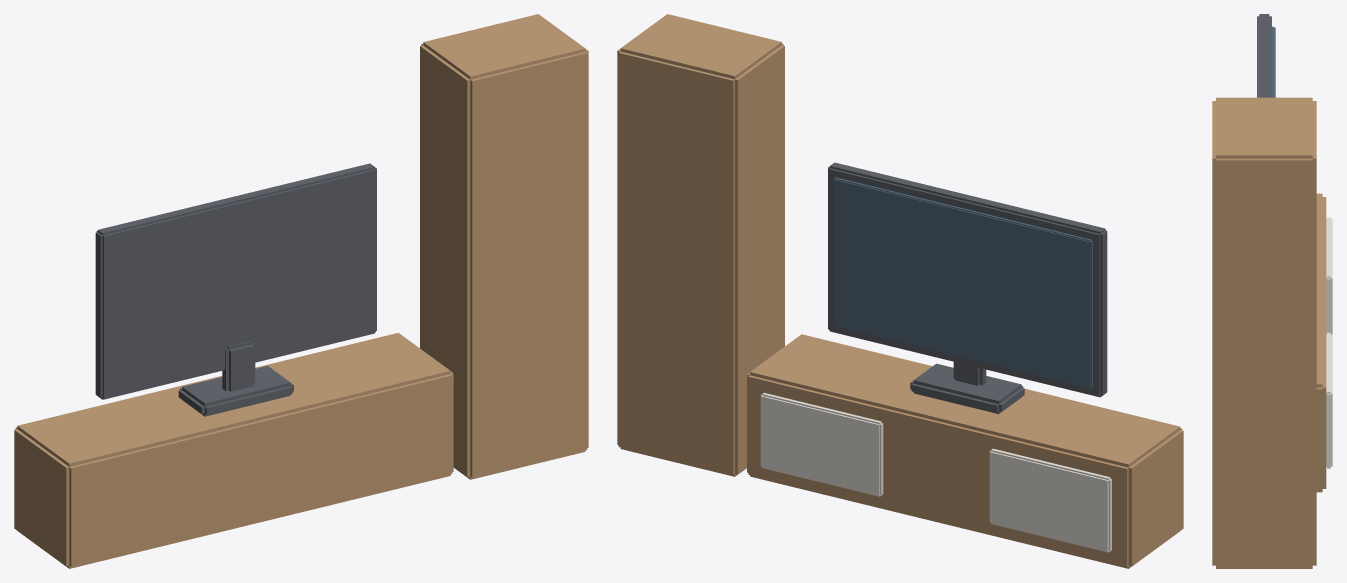
Rendered from Interior_TvUnitVitrin.fbx.
3 views of the same model, side by side, from view 1: azimuth 30°, elevation 25°; view 2: azimuth 150°, elevation 25°; view 3: azimuth 270°, elevation 25° (orthographic). The views are drawn at different scales.
Visible parts, largest first — view 1: Interior_TvUnitVitrin; view 2: Interior_TvUnitVitrin; view 3: Interior_TvUnitVitrin.
Part boxes in pixels (<box>): Interior_TvUnitVitrin: <box>14,14,588,568</box>; Interior_TvUnitVitrin: <box>617,14,1183,568</box>; Interior_TvUnitVitrin: <box>1212,14,1332,568</box>.
Size of the model in its own units: 2.49 by 1.84 by 0.485.
